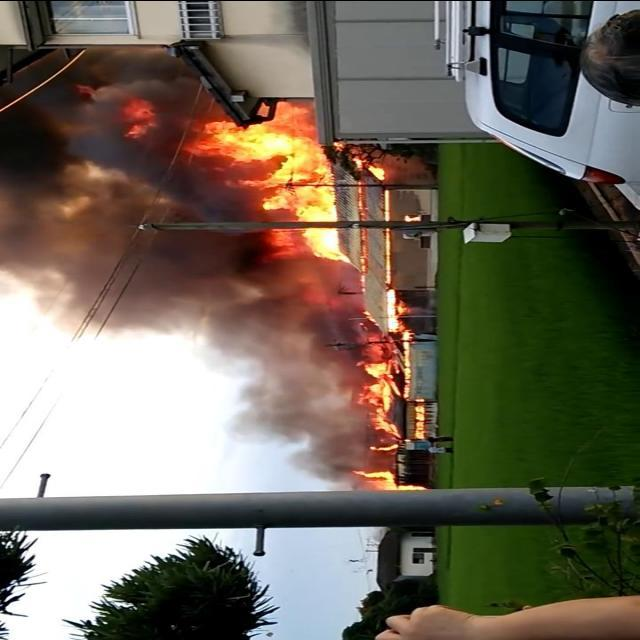Fire: (192, 89, 358, 273), (358, 327, 400, 451), (354, 467, 424, 490), (124, 97, 152, 137), (401, 329, 411, 399), (410, 395, 424, 439), (356, 253, 368, 284), (361, 308, 378, 325)
